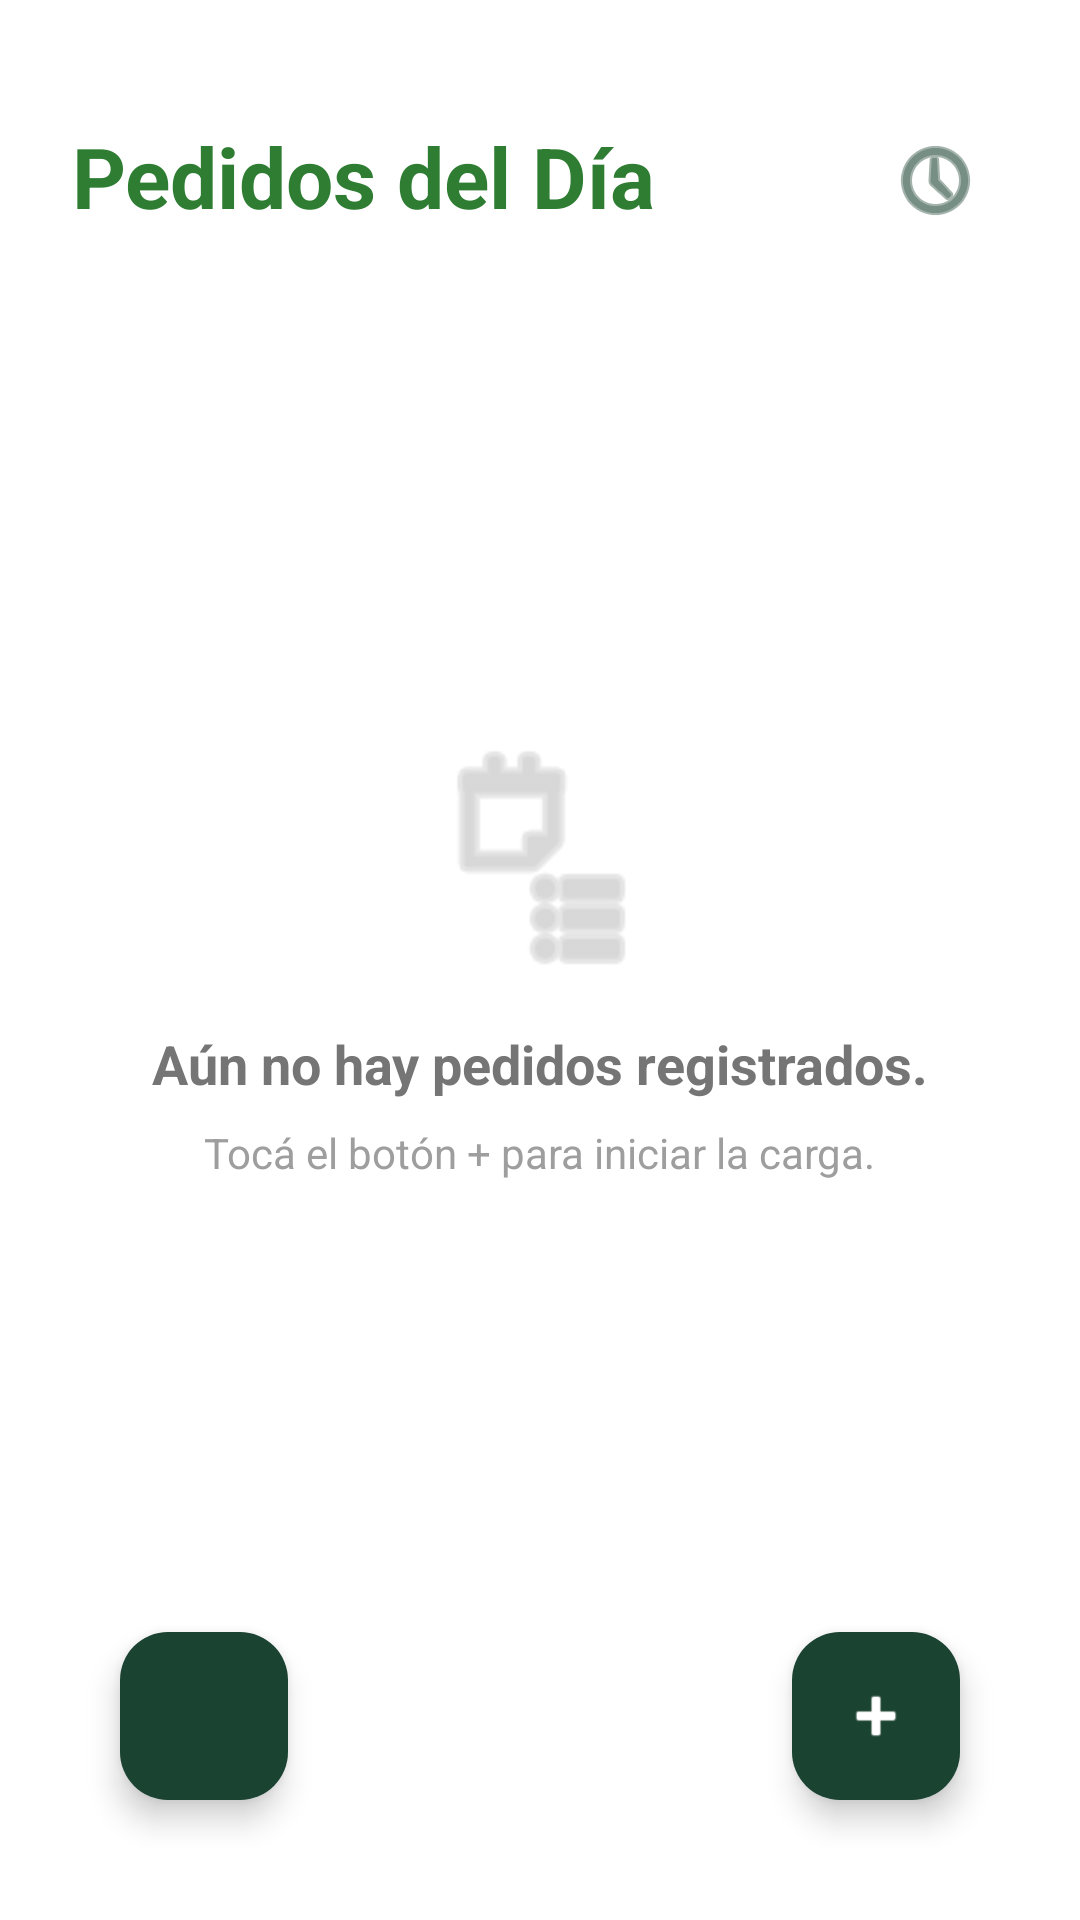

Icons on this 1080x1920 Android screen, each with the point to tap as (x,y):
agenda: (541,858)
Crear nuevo pedido: (876,1716)
Ver historial de pedidos: (935,180)
